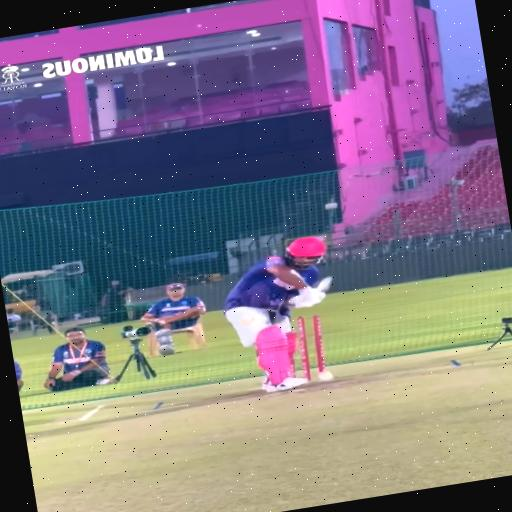Cricket bat: (316, 276, 332, 292)
